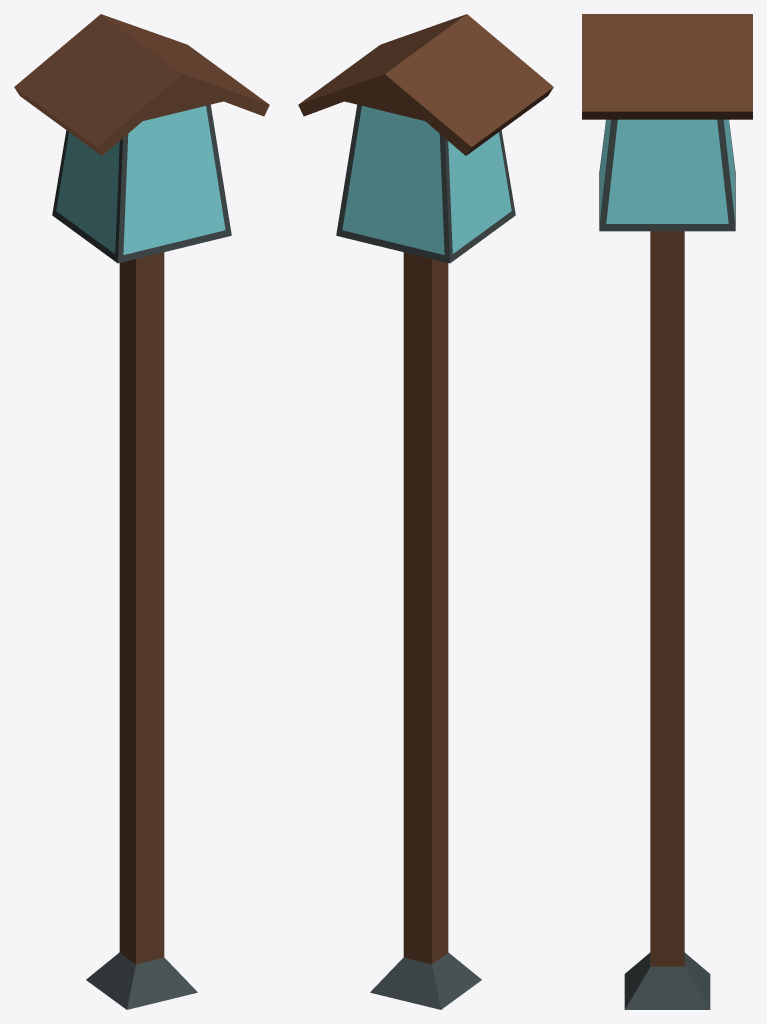
File: Lamp_3_Blue.fbx
3 views of the same model, side by side, from view 1: azimuth 30°, elevation 25°; view 2: azimuth 150°, elevation 25°; view 3: azimuth 270°, elevation 25° (orthographic). The views are drawn at different scales.
Parts seen in each view (by area): view 1: Lamp_3_Blue; view 2: Lamp_3_Blue; view 3: Lamp_3_Blue.
Boxes of the visible parts, box(x1,y1,x2,y2) form: Lamp_3_Blue: box(14, 14, 269, 1009); Lamp_3_Blue: box(298, 14, 553, 1009); Lamp_3_Blue: box(582, 14, 752, 1009).
Bounding box in the file's own units: 60.93 × 316 × 50.
